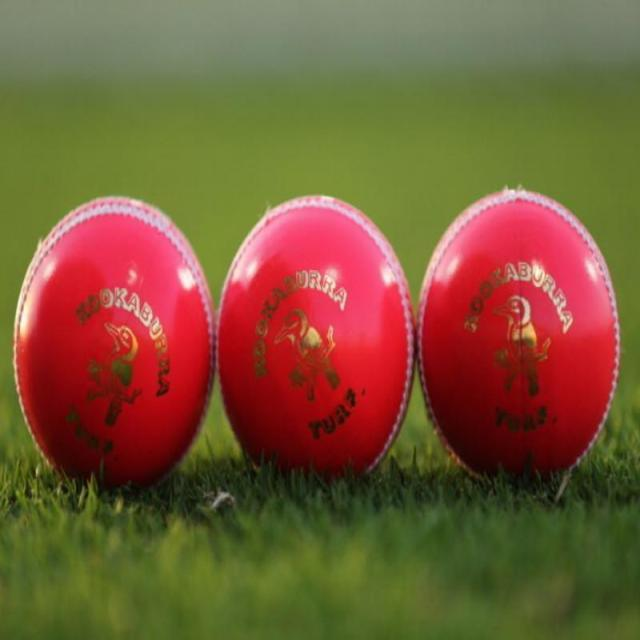ball: (417, 191, 621, 495), (14, 195, 216, 500), (216, 195, 416, 488)
